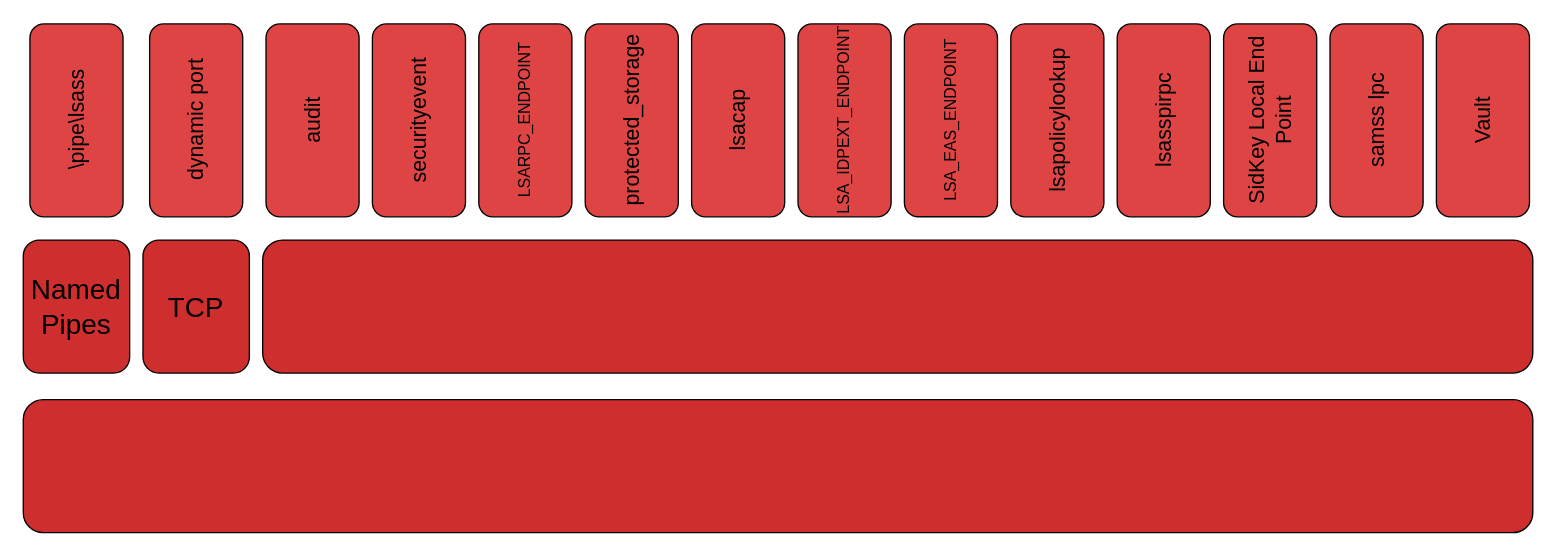
Some shapes in this 1556 by 556 pixel diagram are drawn without their labels. Here are the shapes that lost their labels. From the top down, the centre of each, then its label:
At point 897,306: "LRPC".
At point 777,465: "RPC".
